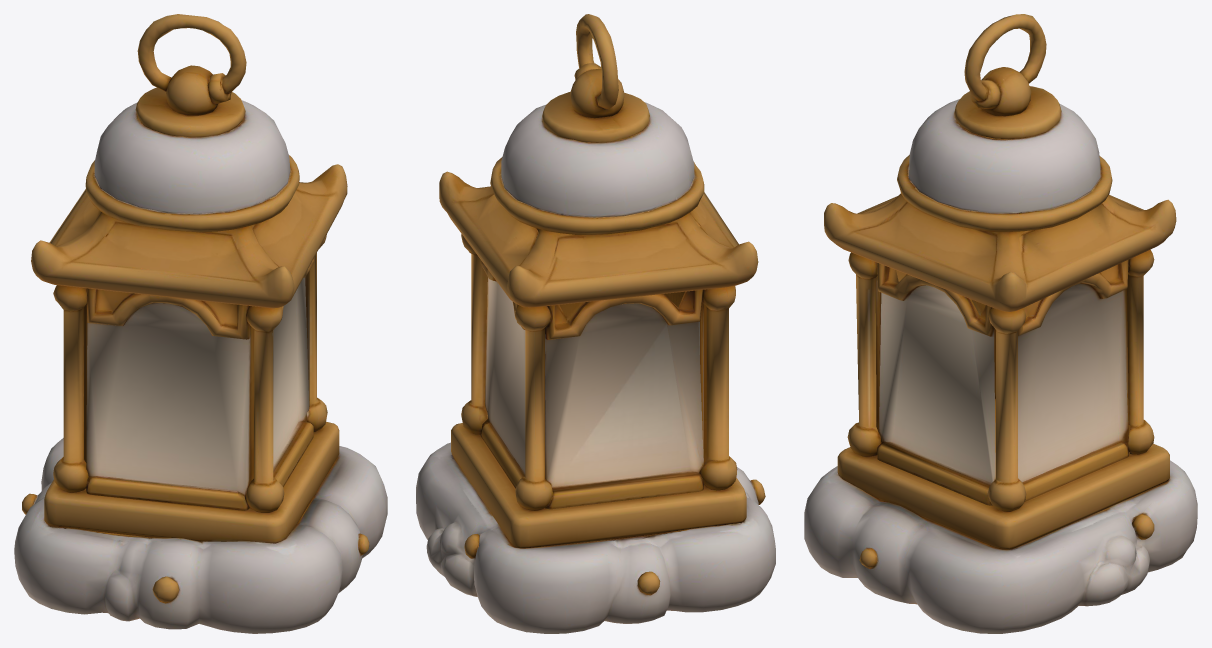
File: prop_lantern.glb
3 views of the same model, side by side, from view 1: azimuth 30°, elevation 25°; view 2: azimuth 150°, elevation 25°; view 3: azimuth 270°, elevation 25° (orthographic).
Visible parts, largest first — view 1: tripo_node_4f9e0054-0e52-45b5-b0ba-266842f8090c; view 2: tripo_node_4f9e0054-0e52-45b5-b0ba-266842f8090c; view 3: tripo_node_4f9e0054-0e52-45b5-b0ba-266842f8090c.
Part boxes in pixels (x1,y1,x2,y2): tripo_node_4f9e0054-0e52-45b5-b0ba-266842f8090c: (14, 14, 387, 633); tripo_node_4f9e0054-0e52-45b5-b0ba-266842f8090c: (416, 14, 775, 633); tripo_node_4f9e0054-0e52-45b5-b0ba-266842f8090c: (804, 14, 1197, 633).
Bounding box in the file's own units: 0.6618 × 0.998 × 0.6629.
1 material, 1 textured.
